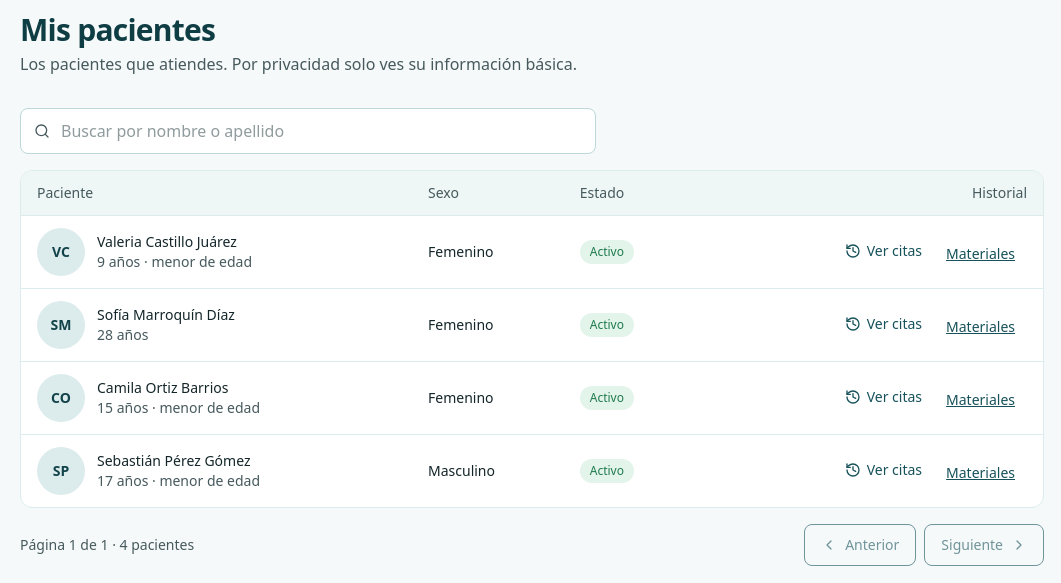
Mis pacientes (profesional) › busca sin tildes
Step 1. Type "sebastian" into the search field named "Buscar paciente" → point(308, 131), box top-left (20, 108), bottom-right (596, 154)
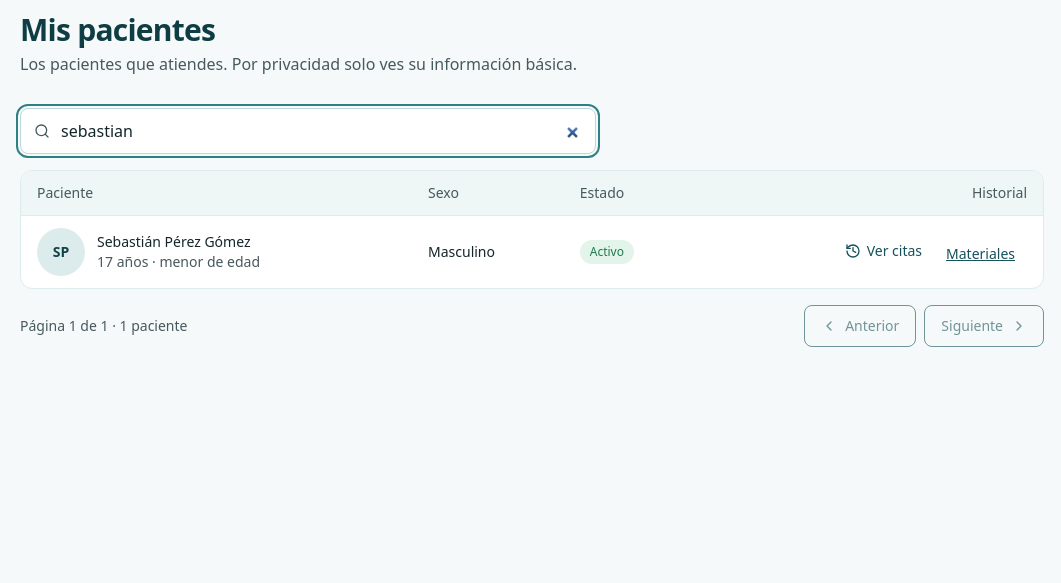
Check: the number of rows is 2, box top-left (21, 171), bottom-right (1043, 216); top-left (21, 216), bottom-right (1043, 288)
